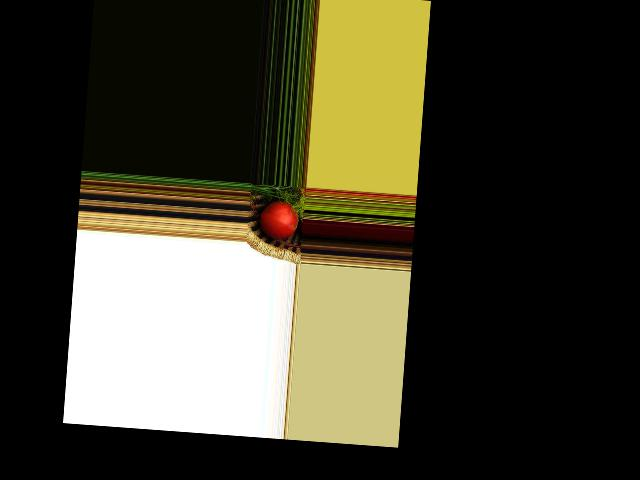tomato: (258, 198, 299, 240)
